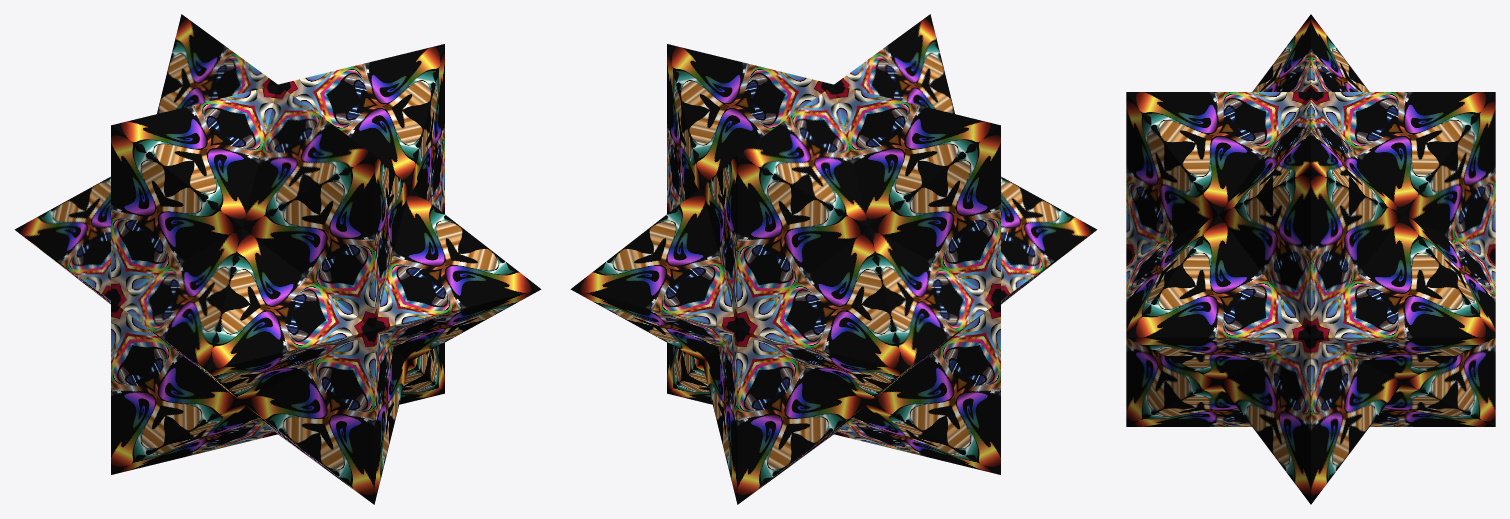
File: Escher12.obj
The picture shows the model from 3 angles, left to right: view 1: azimuth 30°, elevation 25°; view 2: azimuth 150°, elevation 25°; view 3: azimuth 270°, elevation 25°; orthographic projection. The views are drawn at different scales.
Bounding box in the file's own units: 2 × 2 × 2.
1 material, 1 textured.
